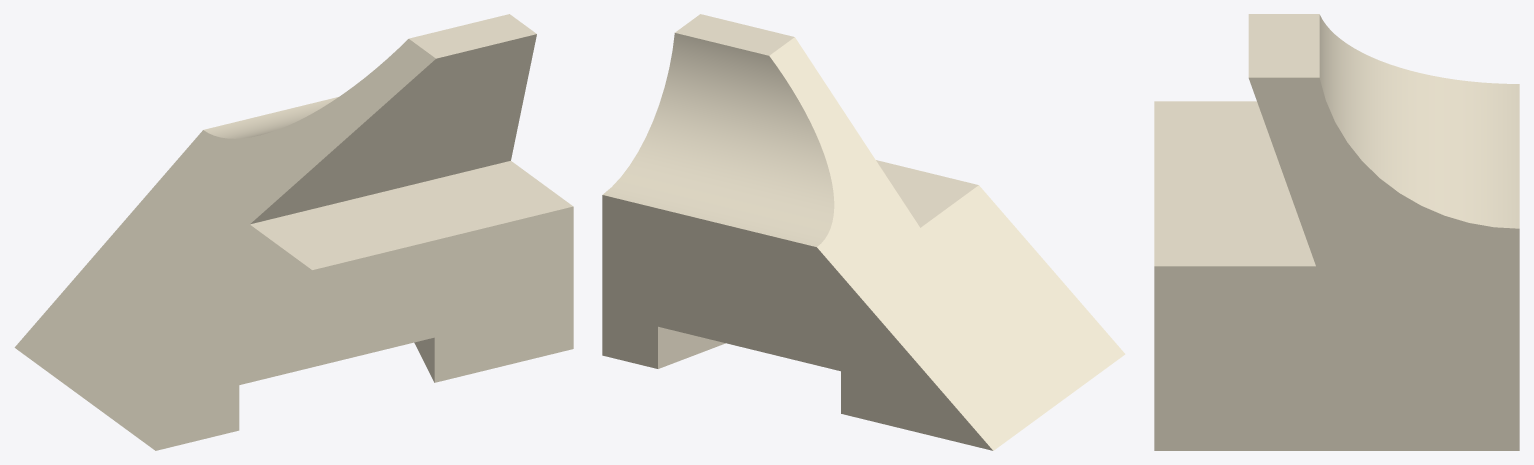
File: problem105_part.glb
3 views of the same model, side by side, from view 1: azimuth 30°, elevation 25°; view 2: azimuth 150°, elevation 25°; view 3: azimuth 270°, elevation 25° (orthographic). The views are drawn at different scales.
Parts seen in each view (by area): view 1: problem105_part.SLDPRT; view 2: problem105_part.SLDPRT; view 3: problem105_part.SLDPRT.
Part boxes in pixels (box(x1,y1,x2,y2)): problem105_part.SLDPRT: box(14, 14, 573, 450); problem105_part.SLDPRT: box(602, 14, 1125, 450); problem105_part.SLDPRT: box(1154, 14, 1519, 450).
Size of the model in its own units: 0.135 by 0.089 by 0.079.
